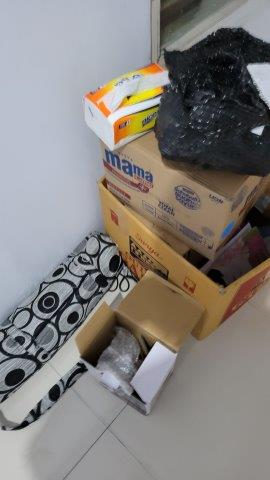kardus: (81, 129, 270, 419)
